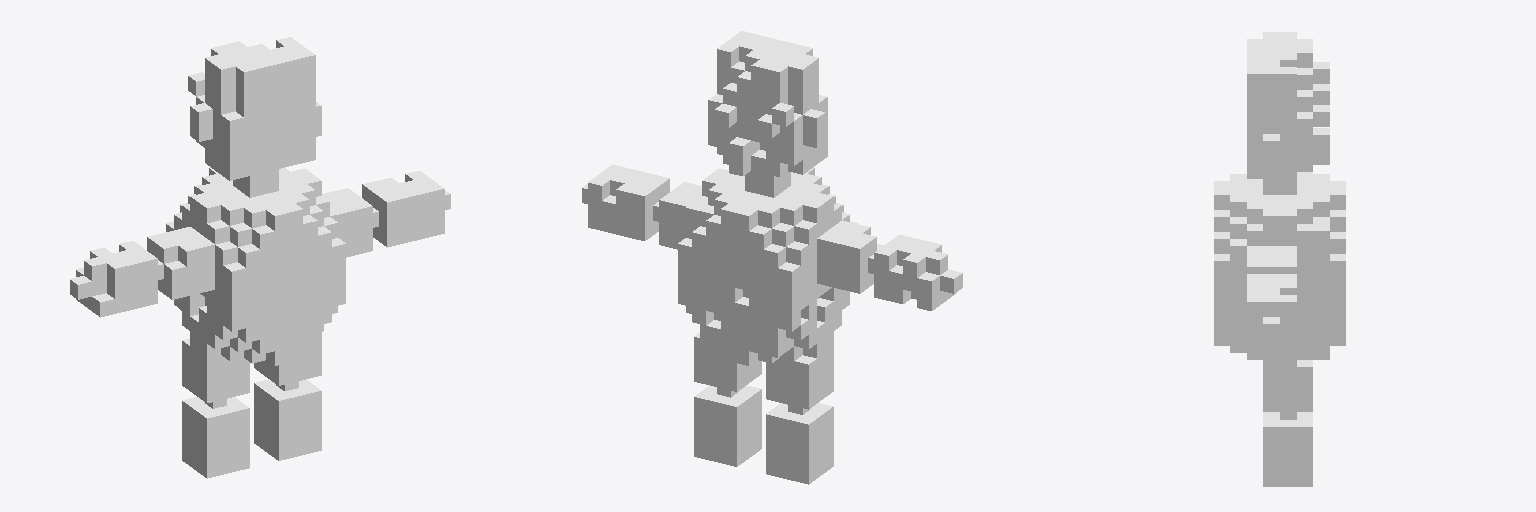
The model's file is cop.obj.
3 views of the same model, side by side, from view 1: azimuth 30°, elevation 25°; view 2: azimuth 150°, elevation 25°; view 3: azimuth 270°, elevation 25° (orthographic).
Visible parts, largest first — view 1: cop; view 2: cop; view 3: cop.
Part boxes in pixels (left/top/right/bottom): cop: left=70, top=37, right=450, bottom=478; cop: left=582, top=31, right=962, bottom=484; cop: left=1214, top=32, right=1345, bottom=486.
Size of the model in its own units: 26 by 27 by 8.